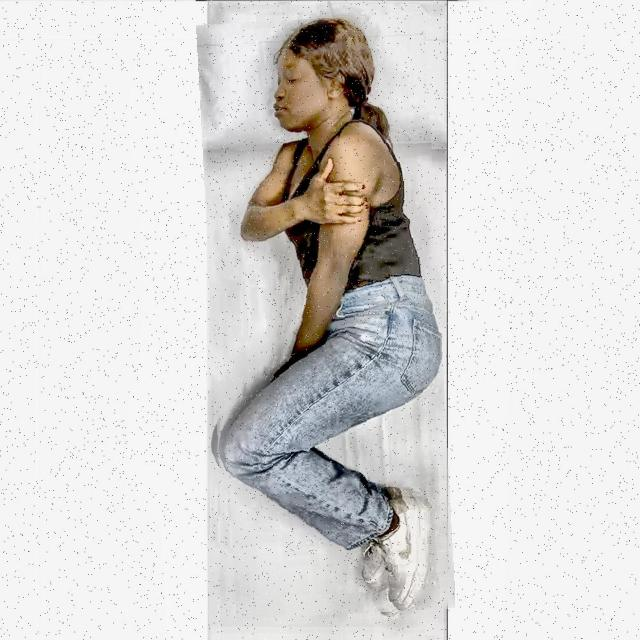Not_Supine: (218, 19, 442, 611)
